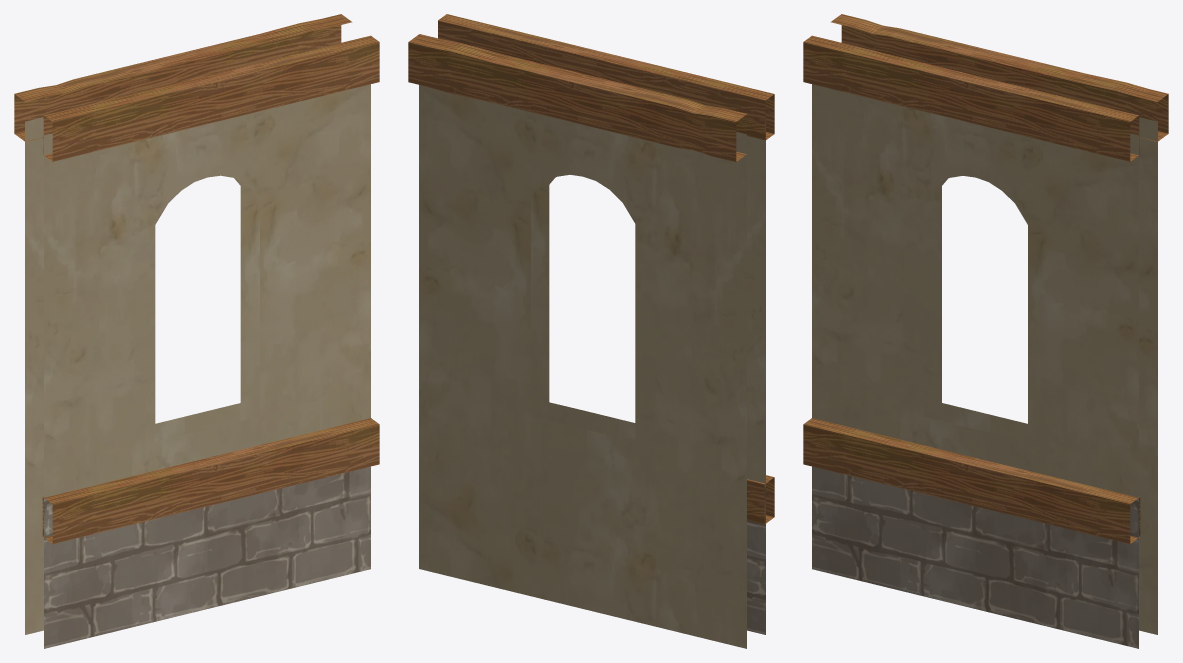
Rendered from wall_plaster_window_thin_round.glb.
3 views of the same model, side by side, from view 1: azimuth 30°, elevation 25°; view 2: azimuth 150°, elevation 25°; view 3: azimuth 330°, elevation 25° (orthographic).
Bounding box in the file's own units: 2 × 3.12 × 0.4066.
Materials: 3 (3 with a texture image).
